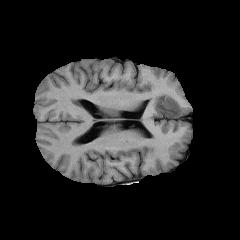glioma: (148, 93, 180, 118)
